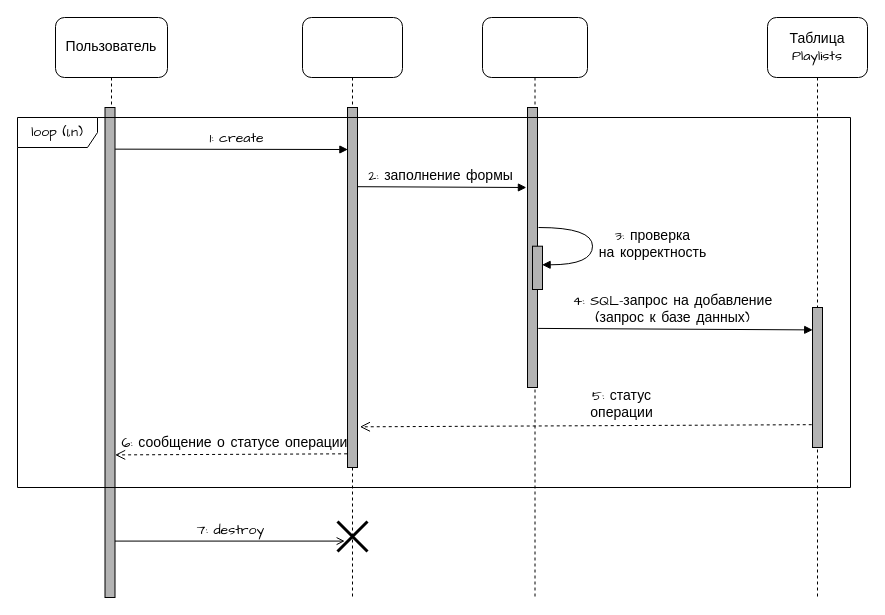
This 885x615 diagram has some shape labels left out. Each missing label, with the box of its shape:
Обработчик создания плейлиста: (482, 16, 588, 598)
Окно создания плейлиста: (302, 16, 402, 598)
